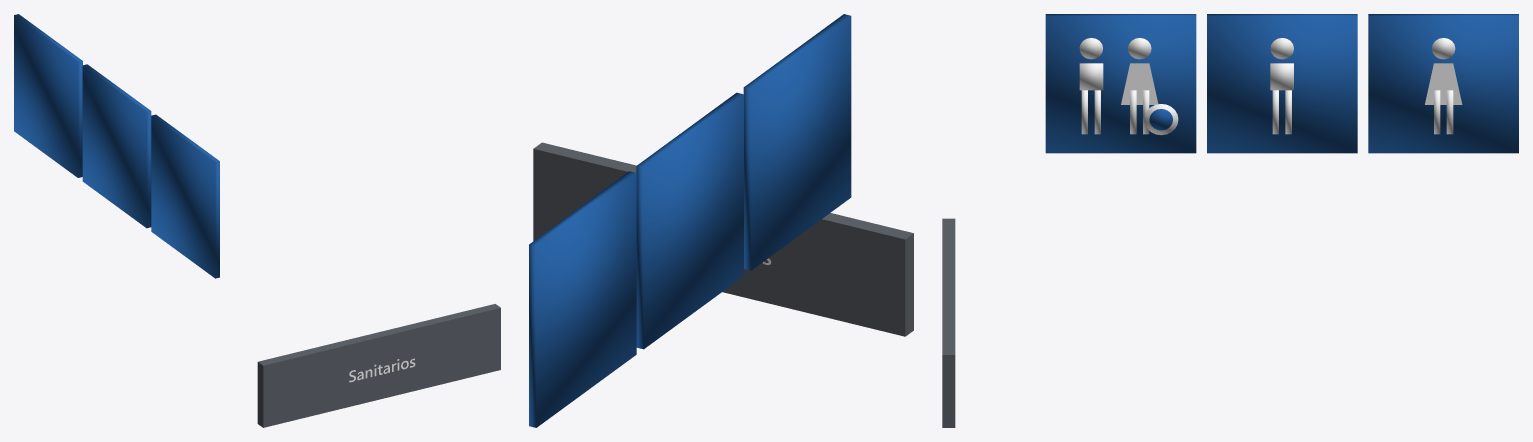
The model's file is 01_nivel_1_general.glb.
The picture shows the model from 3 angles, left to right: view 1: azimuth 30°, elevation 25°; view 2: azimuth 150°, elevation 25°; view 3: azimuth 270°, elevation 25°; orthographic projection. The views are drawn at different scales.
Visible parts, largest first — view 1: placa · Sanitarios.001, pictograma_hombres, pictograma_mujeres, pictograma_neutro, placa · Sanitarios; view 2: pictograma_neutro, pictograma_mujeres, pictograma_hombres, placa · Sanitarios, placa · Sanitarios.001; view 3: pictograma_neutro, pictograma_hombres, pictograma_mujeres, placa · Sanitarios.001, placa · Sanitarios.
Boxes of the visible parts, x1,y1,x2,y2 form: placa · Sanitarios.001: (260,306,500,427); pictograma_hombres: (82,64,151,228); pictograma_mujeres: (14,14,82,177); pictograma_neutro: (151,114,219,278); placa · Sanitarios: (257,304,497,425); pictograma_neutro: (743,14,851,270); pictograma_mujeres: (529,171,636,427); pictograma_hombres: (636,92,743,349); placa · Sanitarios: (533,145,909,336); placa · Sanitarios.001: (538,142,913,333); pictograma_neutro: (1045,14,1196,153); pictograma_hombres: (1207,14,1357,153); pictograma_mujeres: (1368,14,1518,153); placa · Sanitarios.001: (942,218,948,427); placa · Sanitarios: (949,218,955,427).
Size of the model in its own units: 0.61 by 0.565 by 1.07.
